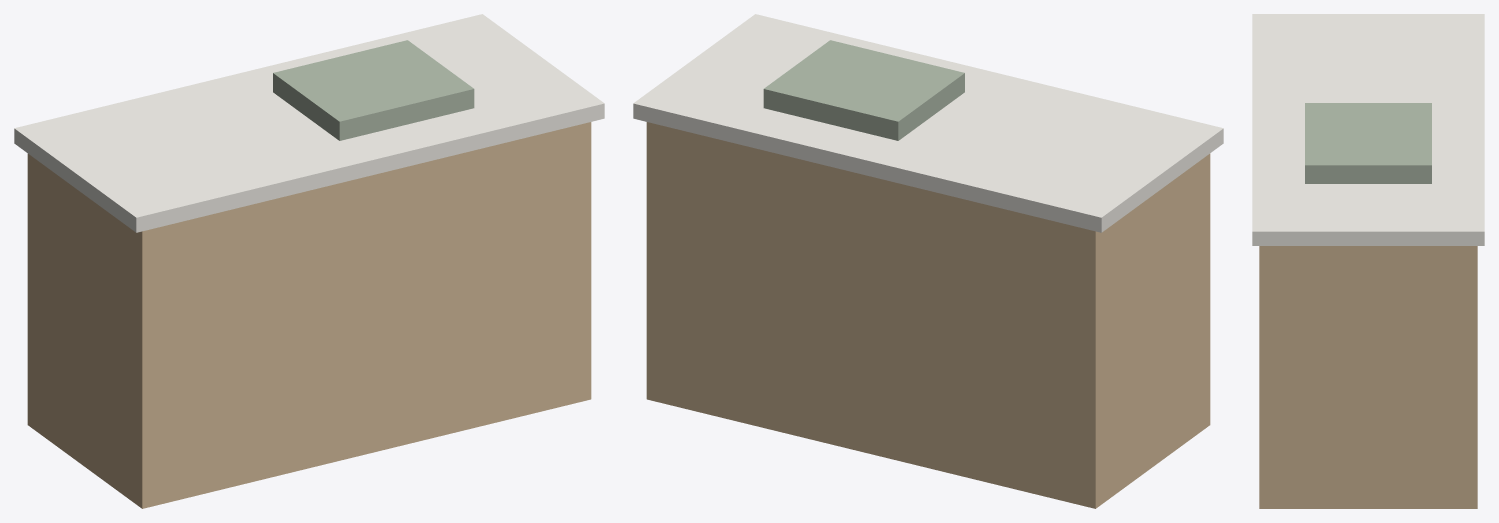
Rendered from counter.glb.
3 views of the same model, side by side, from view 1: azimuth 30°, elevation 25°; view 2: azimuth 150°, elevation 25°; view 3: azimuth 270°, elevation 25° (orthographic). The views are drawn at different scales.
Parts seen in each view (by area): view 1: root; view 2: root; view 3: root.
Part boxes in pixels (x1,y1,x2,y2): root: (14, 14, 604, 508); root: (633, 14, 1223, 508); root: (1252, 14, 1484, 508).
Size of the model in its own units: 1.46 by 0.94 by 0.66.
